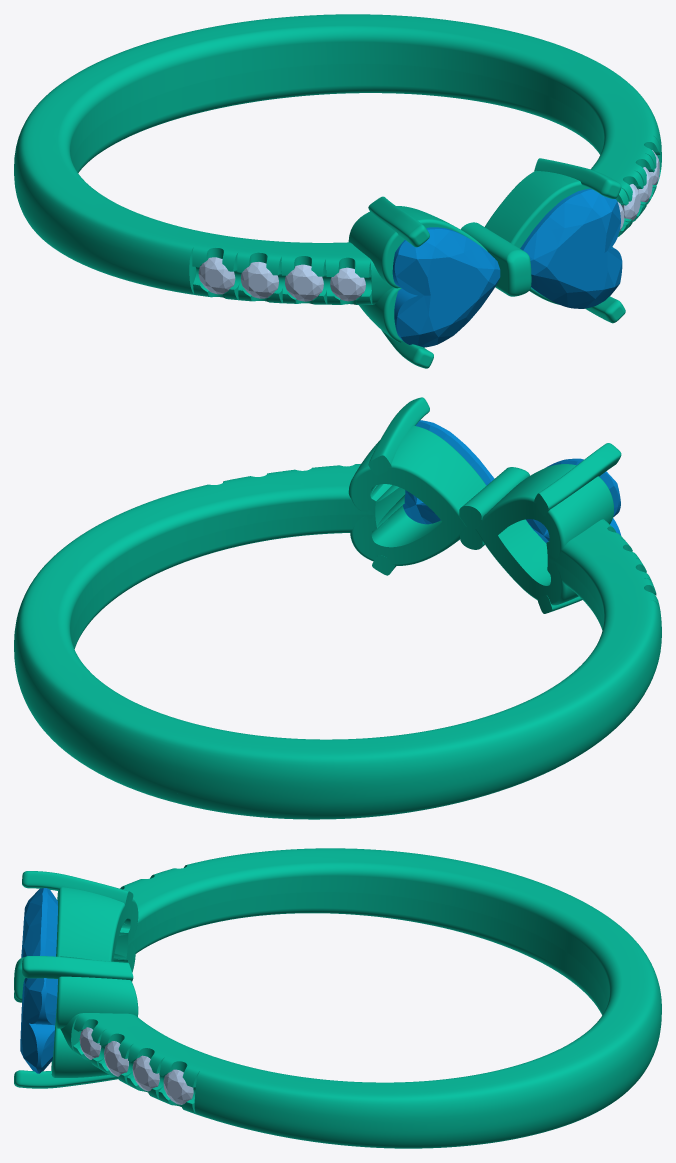
3 views of the same model, one above another, from view 1: azimuth 30°, elevation 25°; view 2: azimuth 150°, elevation 25°; view 3: azimuth 270°, elevation 25° (orthographic). The views are drawn at different scales.
Visible parts, largest first — view 1: CAD027063 V2.3dm, Diamond_Heart (×2), Diamond_Round (×4); view 2: CAD027063 V2.3dm, Diamond_Heart (×2); view 3: CAD027063 V2.3dm, Diamond_Heart (×2), Diamond_Round (×4).
Boxes of the visible parts, <box> form: CAD027063 V2.3dm: <box>14,14,661,368</box>; Diamond_Heart (×2): <box>392,188,622,347</box>; Diamond_Round (×4): <box>198,257,365,301</box>; CAD027063 V2.3dm: <box>14,397,661,819</box>; Diamond_Heart (×2): <box>403,420,621,542</box>; CAD027063 V2.3dm: <box>14,848,661,1148</box>; Diamond_Heart (×2): <box>20,888,57,1073</box>; Diamond_Round (×4): <box>79,1027,193,1104</box>.
Size of the model in its own units: 2.7 by 0.652 by 2.88.
